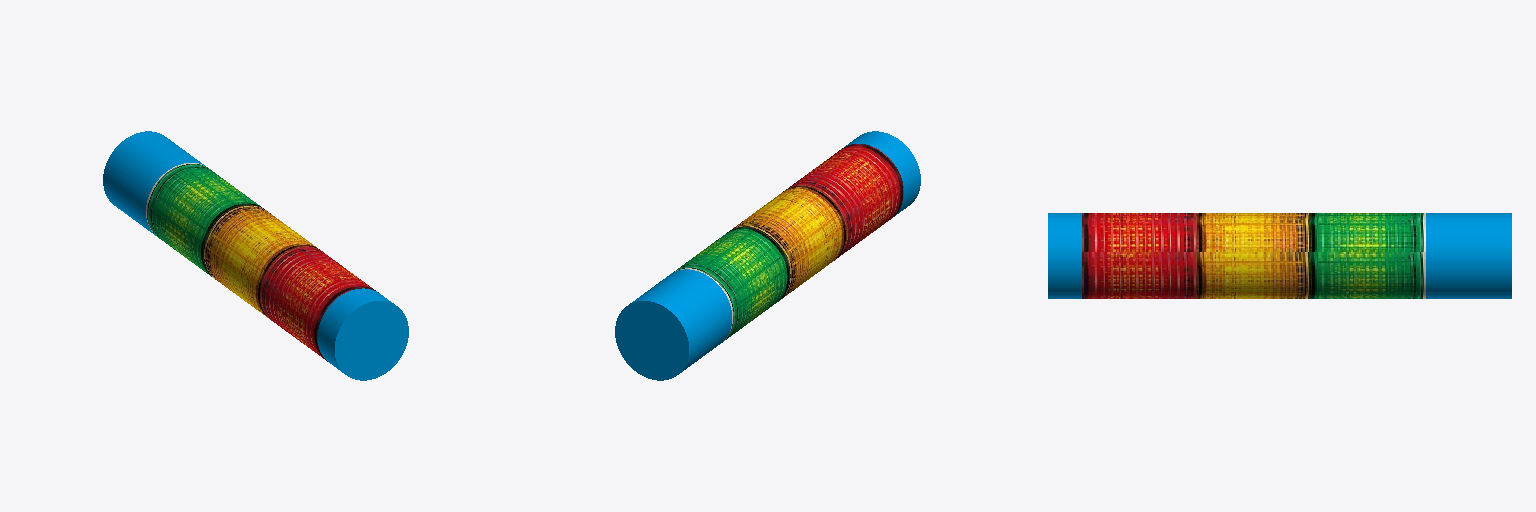
3 views of the same model, side by side, from view 1: azimuth 30°, elevation 25°; view 2: azimuth 150°, elevation 25°; view 3: azimuth 270°, elevation 25° (orthographic).
Parts seen in each view (by area): view 1: Object.1, Object.2, Object.3; view 2: Object.1, Object.3, Object.2; view 3: Object.1, Object.3, Object.2.
Boxes of the visible parts, box(x1,y1,x2,y2) form: Object.1: box(146, 163, 378, 361); Object.2: box(318, 288, 408, 380); Object.3: box(103, 131, 204, 235); Object.1: box(671, 144, 903, 342); Object.3: box(615, 269, 731, 380); Object.2: box(845, 131, 920, 216); Object.1: box(1082, 213, 1425, 298); Object.3: box(1426, 213, 1511, 298); Object.2: box(1048, 213, 1081, 298).
Bounding box in the file's own units: 40 × 40 × 216.
2 materials, 1 textured.